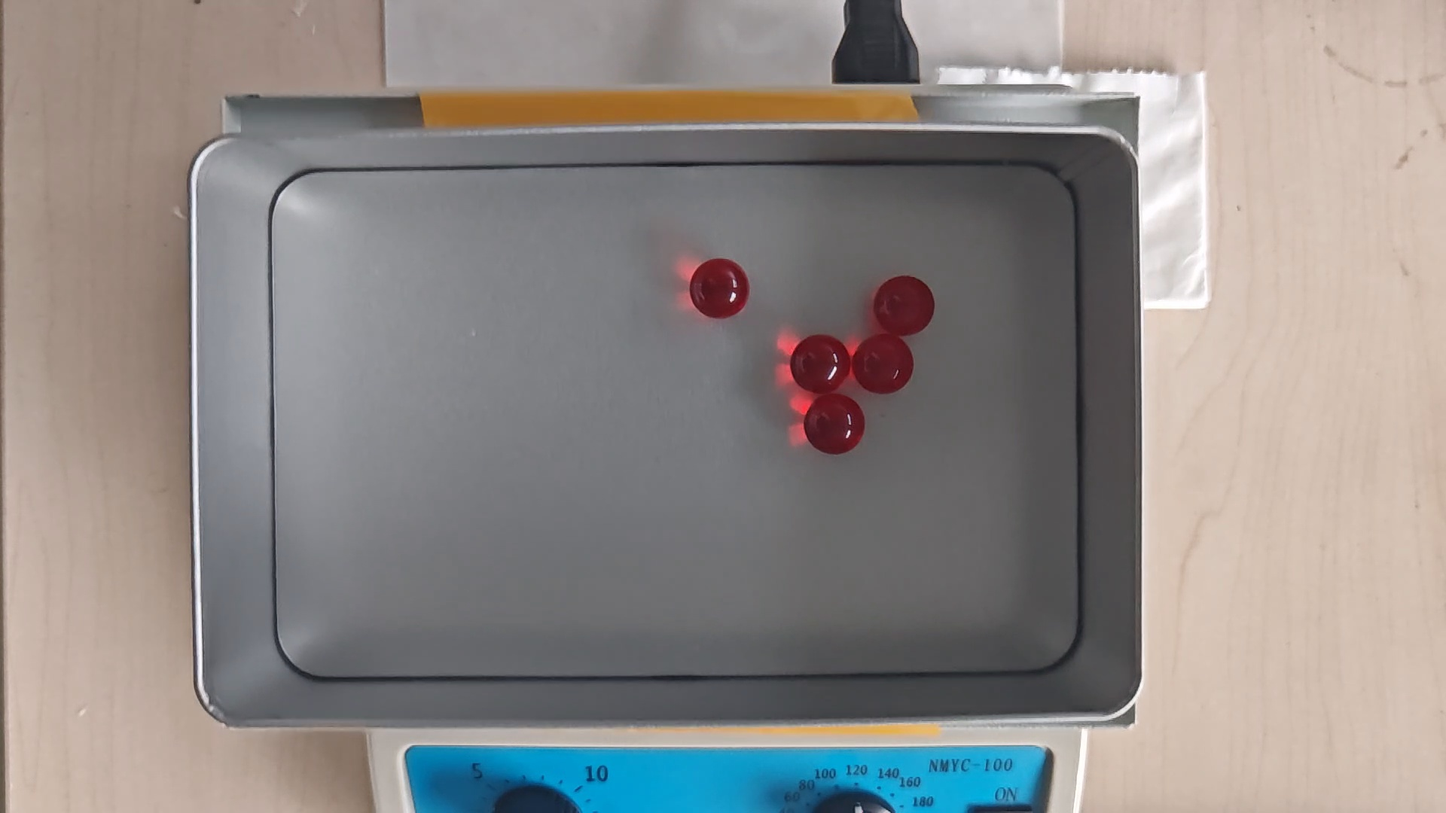ball: (691, 256, 750, 321), (807, 393, 865, 455), (854, 335, 914, 394), (876, 276, 933, 336), (792, 336, 849, 394)
container: (273, 163, 1078, 678)
